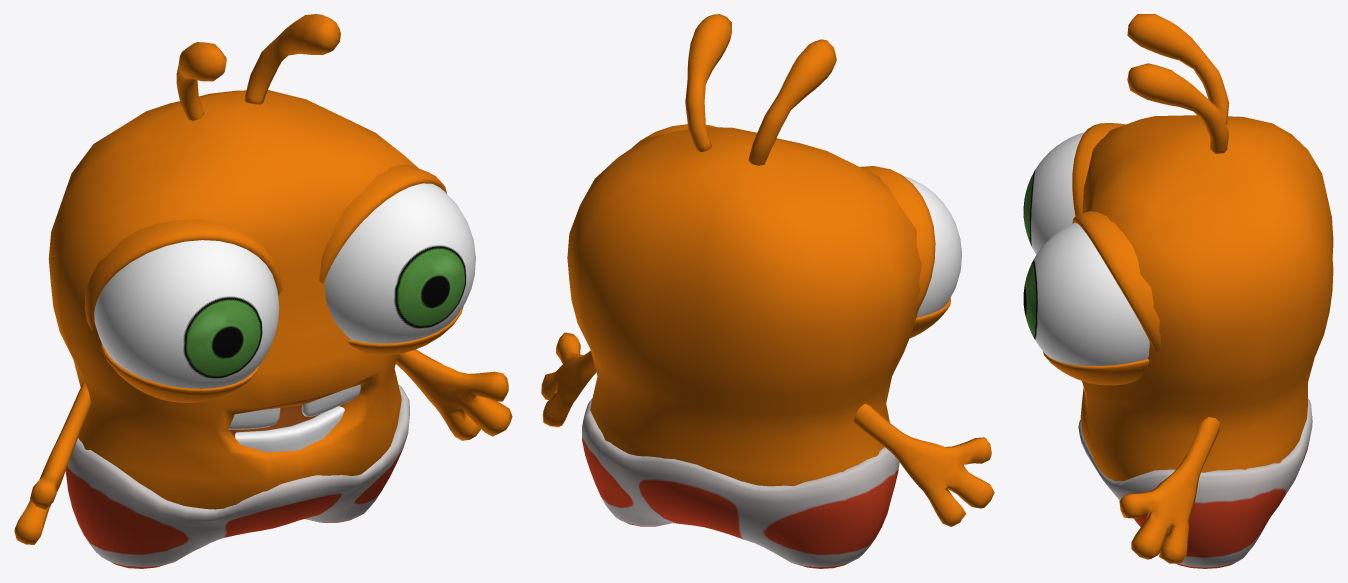
The model's file is starling.glb.
3 renders of one model, left to right at view 1: azimuth 30°, elevation 25°; view 2: azimuth 150°, elevation 25°; view 3: azimuth 270°, elevation 25°, orthographic. The views are drawn at different scales.
Visible parts, largest first — view 1: Galaxy Life Starling - Mikelica_0; view 2: Galaxy Life Starling - Mikelica_0; view 3: Galaxy Life Starling - Mikelica_0.
Boxes of the visible parts, x1,y1,x2,y2 form: Galaxy Life Starling - Mikelica_0: (14, 14, 512, 568); Galaxy Life Starling - Mikelica_0: (541, 14, 994, 568); Galaxy Life Starling - Mikelica_0: (1023, 14, 1333, 568).
Bounding box in the file's own units: 0.6888 × 0.7062 × 0.4155.
Materials: 2 (1 with a texture image).
